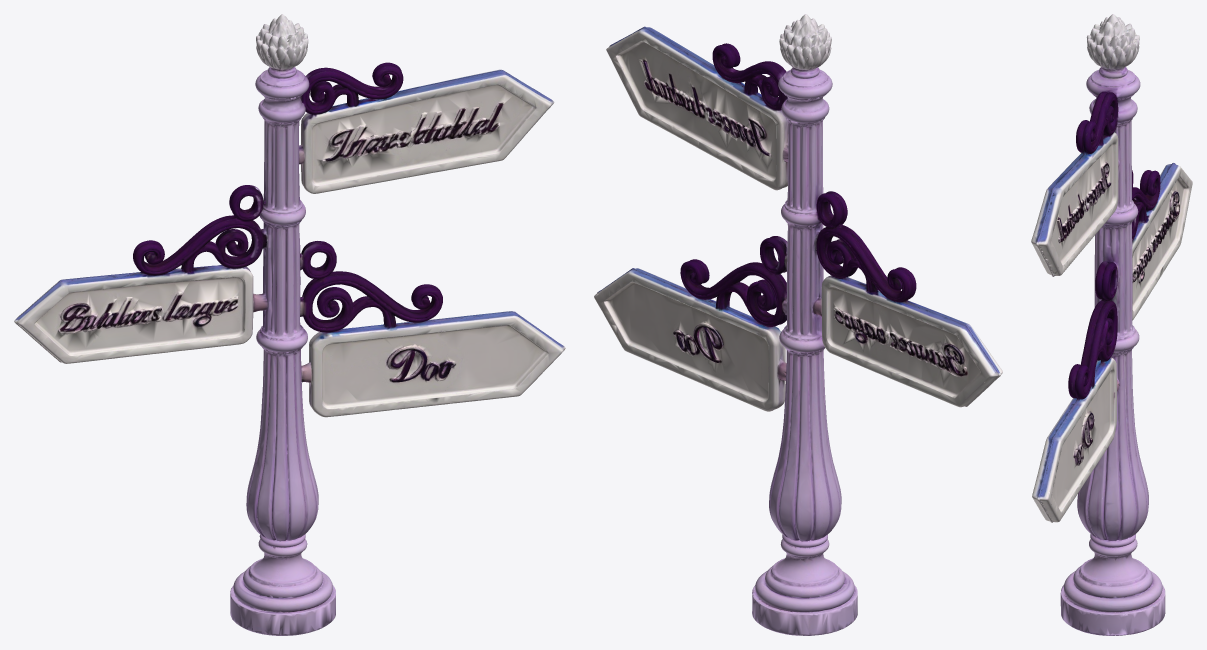
The model's file is signpost.glb.
3 views of the same model, side by side, from view 1: azimuth 30°, elevation 25°; view 2: azimuth 150°, elevation 25°; view 3: azimuth 270°, elevation 25° (orthographic).
Visible parts, largest first — view 1: node_0; view 2: node_0; view 3: node_0.
Part boxes in pixels (x1,y1,x2,y2): node_0: (14, 14, 565, 635); node_0: (594, 14, 1002, 635); node_0: (1031, 14, 1192, 635).
Size of the model in its own units: 0.9731 by 1.17 by 0.2853.
Materials: 1 (1 with a texture image).
